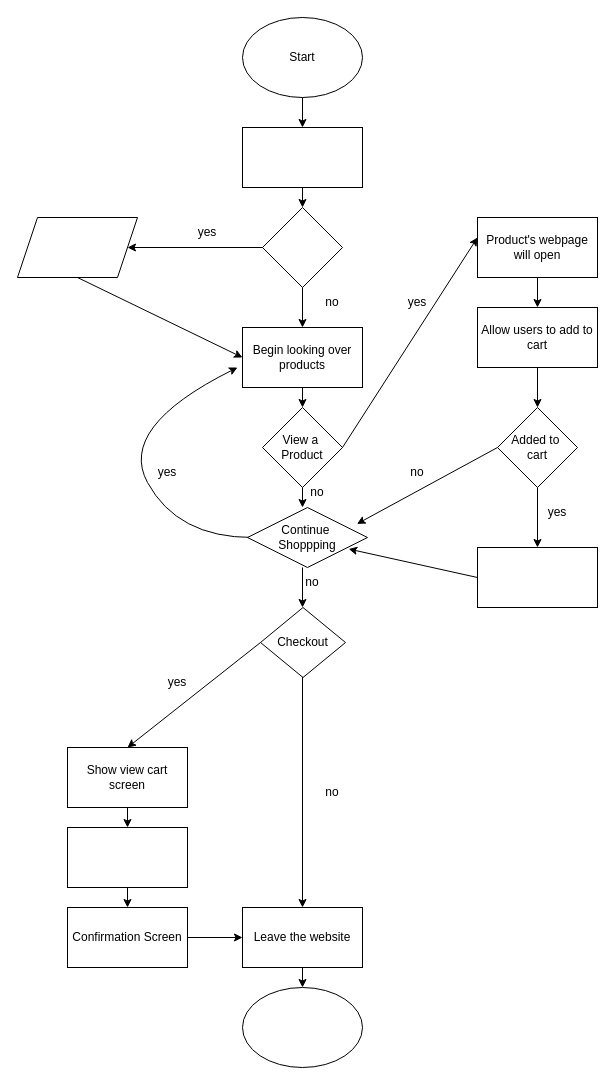
Some shapes in this 615 by 1085 pixel diagram are drawn without their labels. The shapes that lost their labels are listed below. From the top down, each one's centre as x and y in pixels, then its label:
At (x=302, y=157): "User enters the website".
At (x=77, y=247): "Provide input".
At (x=302, y=247): "Search for product".
At (x=537, y=577): "Added to cart confirmation".
At (x=127, y=857): "View payment screen".
At (x=302, y=1027): "Stop".
